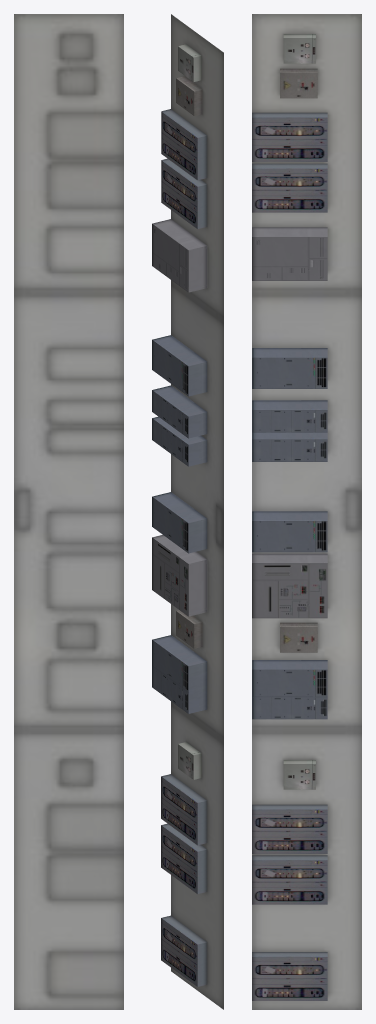
The model's file is murhaut_av.fbx.
The picture shows the model from 3 angles, left to right: view 1: azimuth 90°, elevation 25°; view 2: azimuth 210°, elevation 25°; view 3: azimuth 270°, elevation 25°; orthographic projection. The views are drawn at different scales.
Parts seen in each view (by area): view 1: ShapeIndexedFaceSet_004; view 2: ShapeIndexedFaceSet_004, ShapeIndexedFaceSet_005, ShapeIndexedFaceSet_001; view 3: ShapeIndexedFaceSet_004, ShapeIndexedFaceSet_005, ShapeIndexedFaceSet_001.
Boxes of the visible parts, bbox=[...] form: ShapeIndexedFaceSet_004: bbox=[14, 14, 123, 1009]; ShapeIndexedFaceSet_004: bbox=[171, 14, 223, 1009]; ShapeIndexedFaceSet_005: bbox=[152, 44, 207, 986]; ShapeIndexedFaceSet_001: bbox=[152, 335, 207, 713]; ShapeIndexedFaceSet_004: bbox=[252, 14, 361, 1009]; ShapeIndexedFaceSet_005: bbox=[252, 34, 327, 1000]; ShapeIndexedFaceSet_001: bbox=[252, 348, 327, 719].
Bounding box in the file's own units: 0.6 × 29.01 × 2.9.
